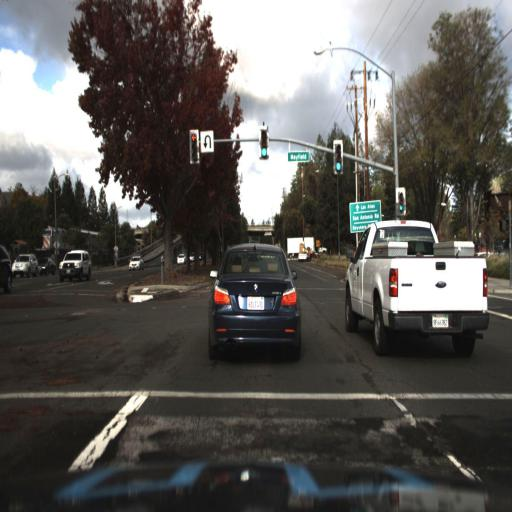car: (342, 212, 490, 356), (207, 241, 300, 361), (56, 244, 96, 283), (10, 252, 37, 280), (7, 252, 35, 278), (34, 255, 54, 283), (128, 253, 145, 275), (297, 238, 310, 266), (126, 252, 144, 270), (298, 239, 313, 260)
trafficLight-Green: (257, 126, 271, 162), (332, 140, 345, 177), (394, 186, 407, 222)
trafficLight-RedLeft: (187, 126, 200, 168)
truck: (285, 236, 327, 264), (286, 236, 327, 254)
